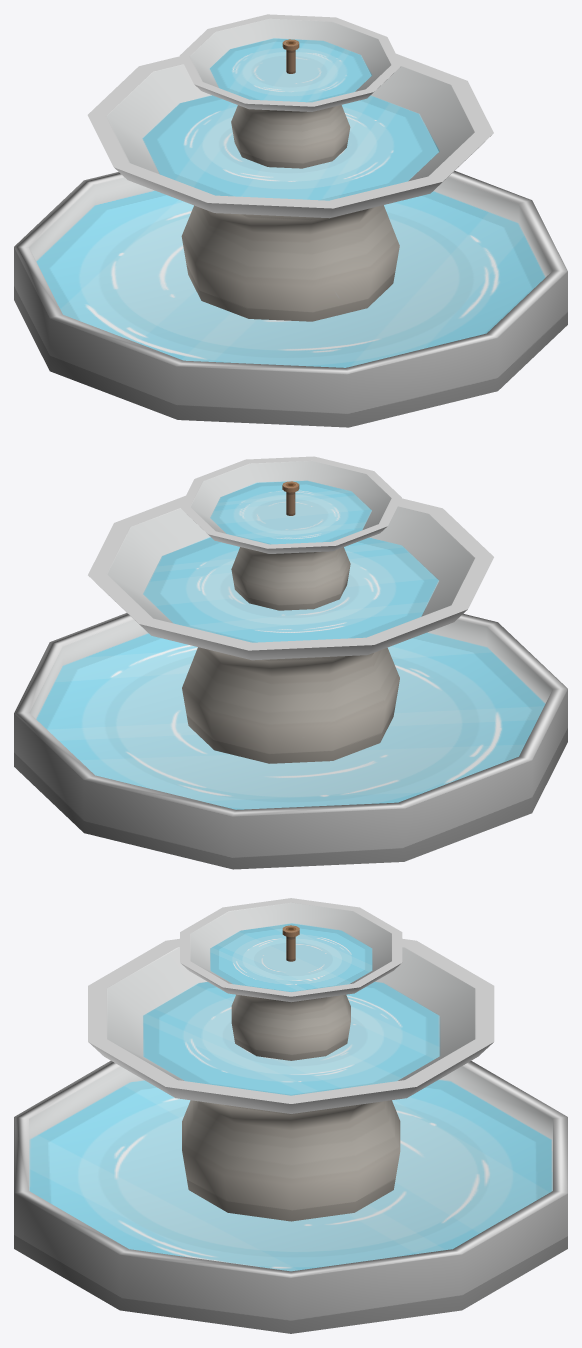
The model's file is city_fountain.fbx.
3 renders of one model, top to bottom at view 1: azimuth 30°, elevation 25°; view 2: azimuth 150°, elevation 25°; view 3: azimuth 270°, elevation 25°, orthographic. The views are drawn at different scales.
Parts seen in each view (by area): view 1: city:polySurface326; view 2: city:polySurface326; view 3: city:polySurface326.
Boxes of the visible parts, x1,y1,x2,y2 form: city:polySurface326: (14, 14, 567, 427); city:polySurface326: (14, 456, 567, 869); city:polySurface326: (14, 898, 567, 1333).
Bounding box in the file's own units: 3.46 × 1.85 × 3.29.
